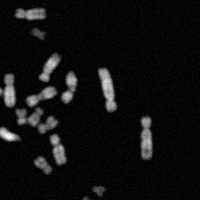chromosome: (99, 68, 117, 111), (27, 86, 57, 106), (40, 53, 60, 80), (141, 116, 153, 159), (61, 71, 76, 104), (51, 135, 66, 165), (4, 73, 15, 106), (16, 8, 46, 19), (34, 157, 51, 174), (38, 117, 57, 132), (0, 127, 20, 141), (27, 108, 42, 124), (92, 184, 105, 197), (31, 28, 44, 40), (16, 109, 25, 124), (0, 73, 3, 98), (78, 197, 91, 200)
